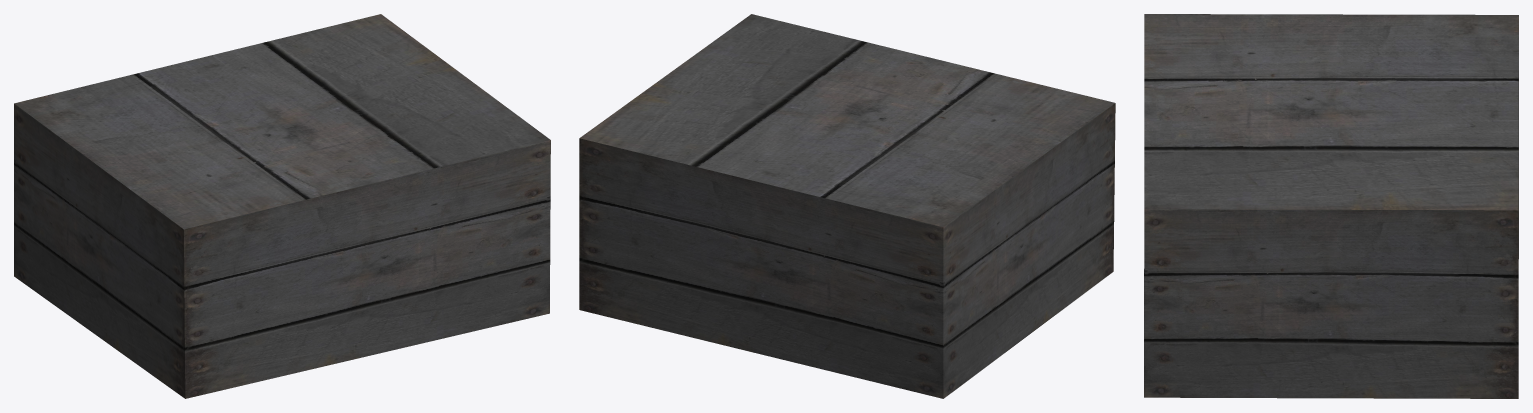
File: Crate02_LOD03.fbx
3 views of the same model, side by side, from view 1: azimuth 30°, elevation 25°; view 2: azimuth 150°, elevation 25°; view 3: azimuth 270°, elevation 25° (orthographic). The views are drawn at different scales.
Parts seen in each view (by area): view 1: Mesh Object; view 2: Mesh Object; view 3: Mesh Object.
Boxes of the visible parts, <box> form: Mesh Object: <box>14,14,550,398</box>; Mesh Object: <box>579,14,1115,398</box>; Mesh Object: <box>1144,14,1518,398</box>.
Size of the model in its own units: 0.6278 by 0.2819 by 0.5067.
